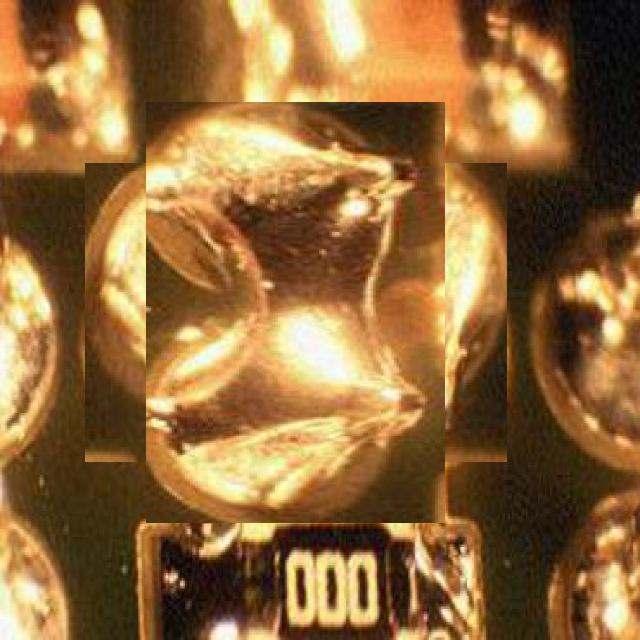Short_circuit: (116, 132, 476, 493)
